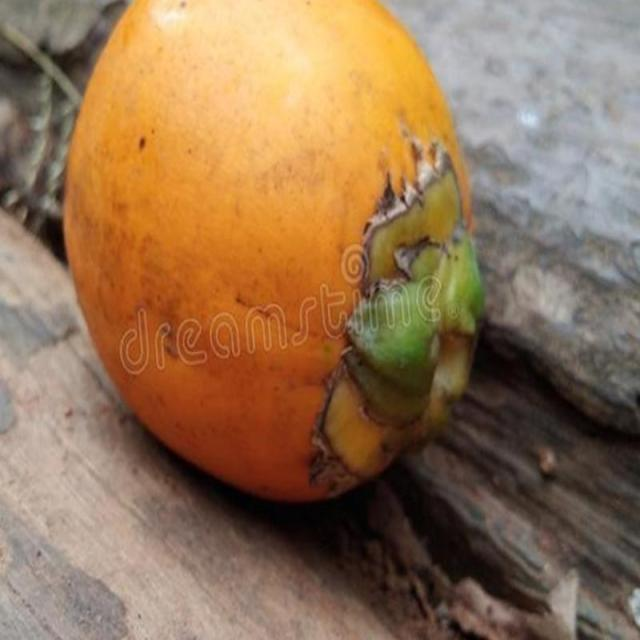good: (62, 0, 486, 508)
